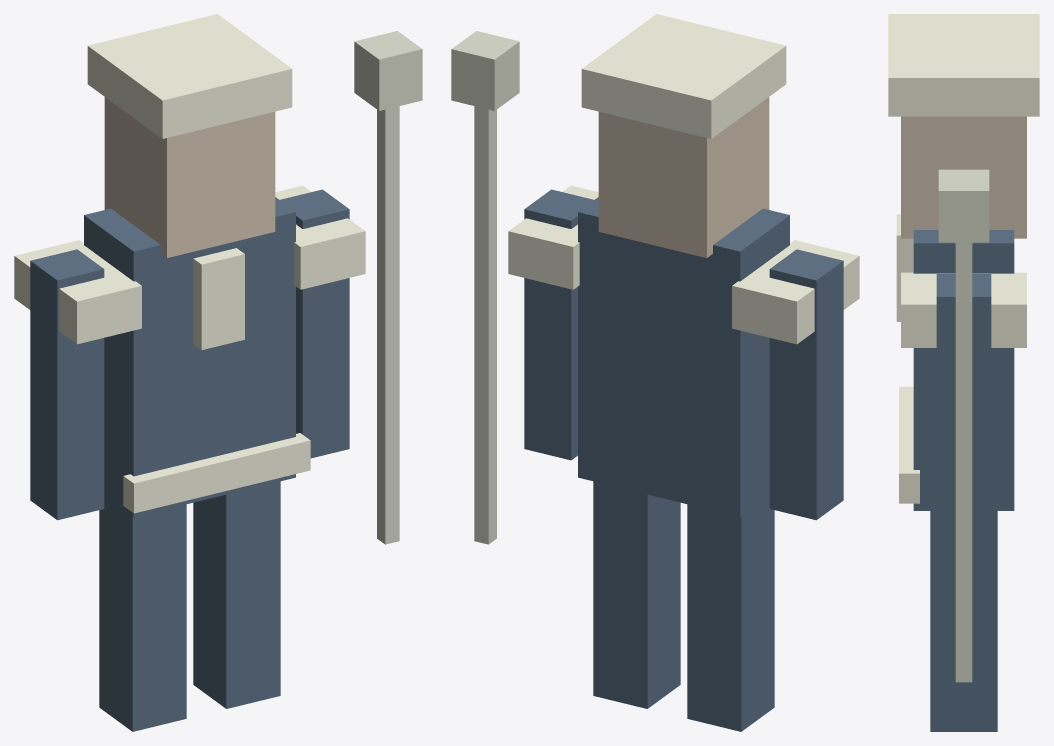
File: 03_juno_glassroot_smith_of_ter.glb
3 renders of one model, left to right at view 1: azimuth 30°, elevation 25°; view 2: azimuth 150°, elevation 25°; view 3: azimuth 270°, elevation 25°, orthographic.
Parts seen in each view (by area): view 1: Juno Glassroot, Smith of Ter; view 2: Juno Glassroot, Smith of Ter; view 3: Juno Glassroot, Smith of Ter.
Part boxes in pixels (bbox=[...]): Juno Glassroot, Smith of Ter: bbox=[14, 14, 422, 731]; Juno Glassroot, Smith of Ter: bbox=[451, 14, 859, 731]; Juno Glassroot, Smith of Ter: bbox=[888, 14, 1039, 731].
Size of the model in its own units: 0.9783 by 1.65 by 0.347.
